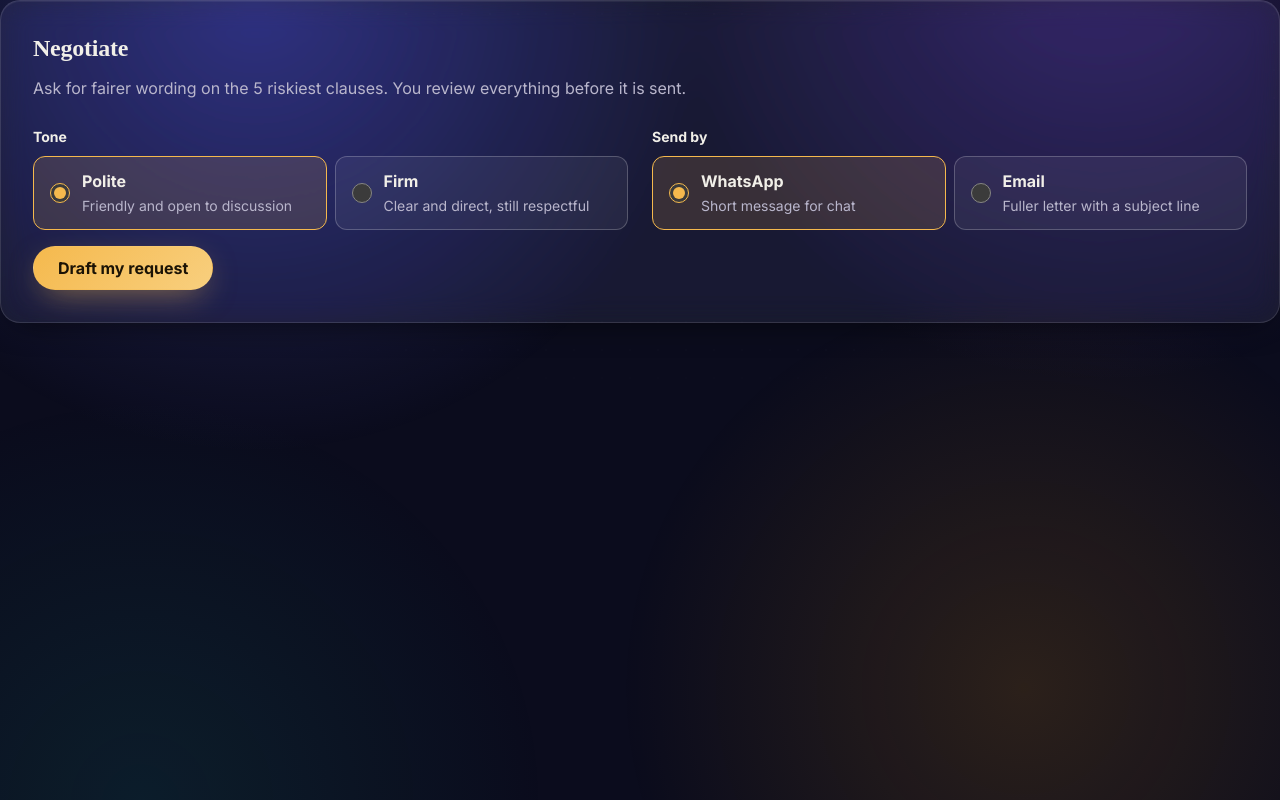
Test: NegotiatePanel › shows the server’s message when drafting fails
Click the button "Draft my request": (123, 268) [33,246,213,290]
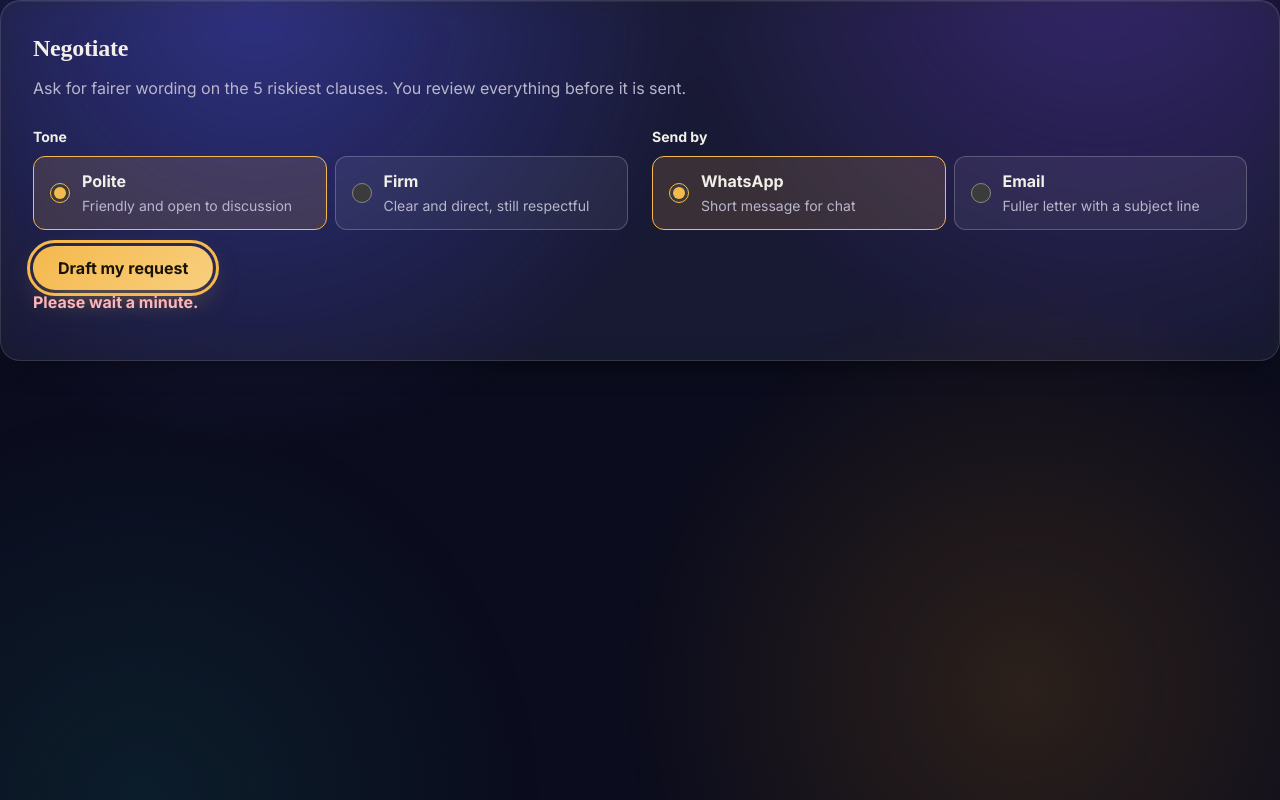
Now the message reads "Please wait a minute.", box [33,292,198,312]
